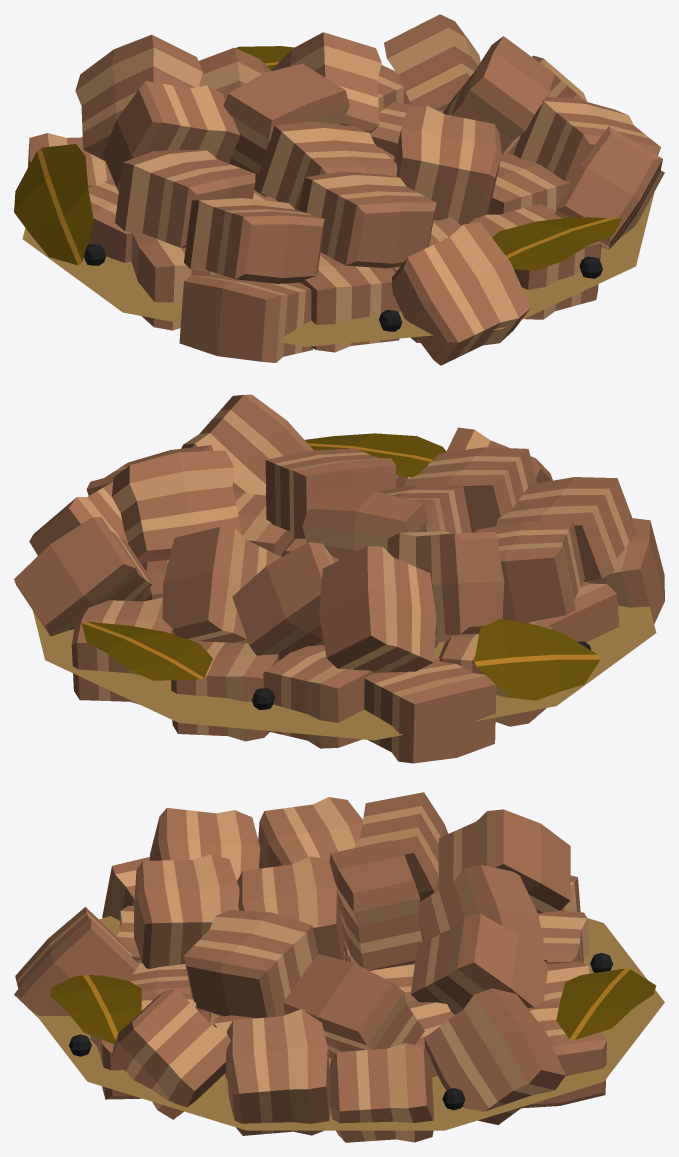
The model's file is Adobong puti.fbx.
3 views of the same model, one above another, from view 1: azimuth 30°, elevation 25°; view 2: azimuth 150°, elevation 25°; view 3: azimuth 270°, elevation 25° (orthographic).
Visible parts, largest first — view 1: Adobong Puti; view 2: Adobong Puti; view 3: Adobong Puti.
Boxes of the visible parts, bbox=[...] form: Adobong Puti: bbox=[14, 14, 664, 365]; Adobong Puti: bbox=[14, 394, 664, 763]; Adobong Puti: bbox=[14, 792, 664, 1142].
Bounding box in the file's own units: 92.02 × 30.57 × 96.93.
